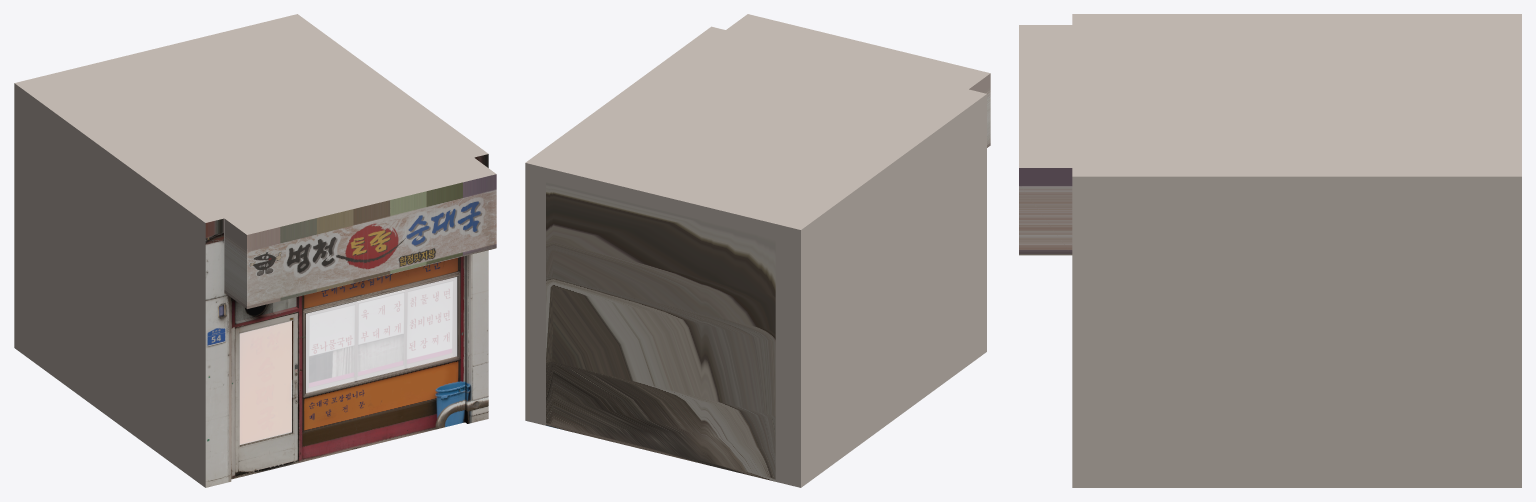
The model's file is EDIFICIO.glb.
3 views of the same model, side by side, from view 1: azimuth 30°, elevation 25°; view 2: azimuth 150°, elevation 25°; view 3: azimuth 270°, elevation 25° (orthographic). The views are drawn at different scales.
Parts seen in each view (by area): view 1: building-1-shop-3; view 2: building-1-shop-3; view 3: building-1-shop-3.
Part boxes in pixels (x1,y1,x2,y2): building-1-shop-3: (14, 14, 496, 487); building-1-shop-3: (525, 14, 990, 487); building-1-shop-3: (1019, 14, 1521, 487).
Size of the model in its own units: 4.98 by 4.45 by 6.51.
Materials: 2 (2 with a texture image).
